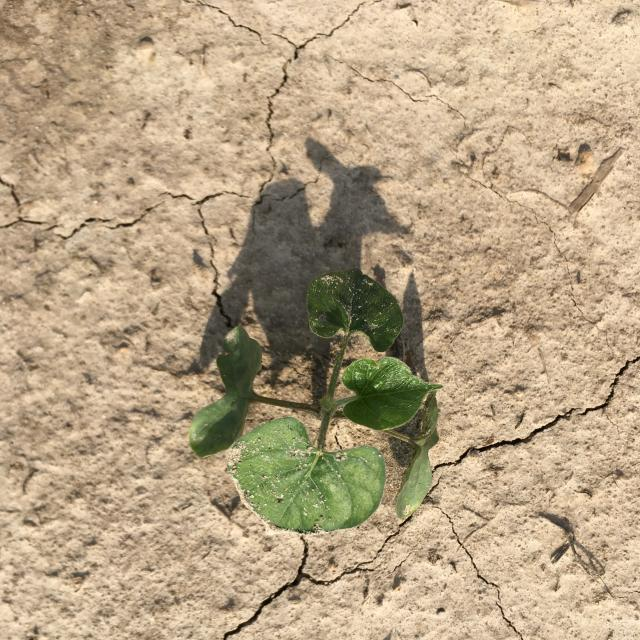MorningGlory: (188, 269, 444, 536)
